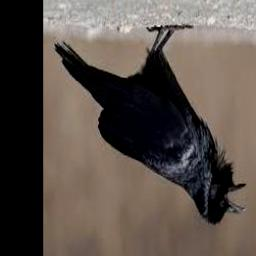Crow: (55, 25, 247, 226)
